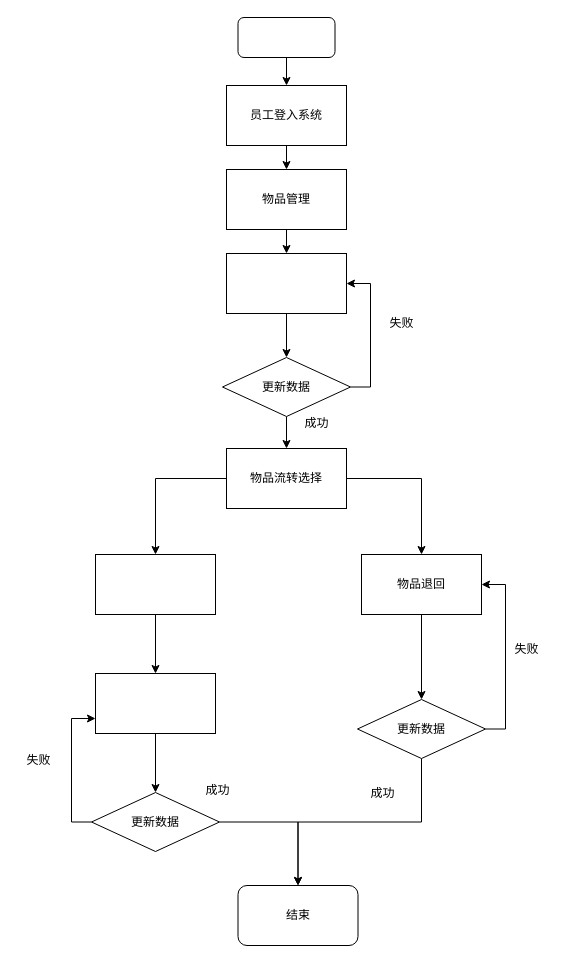
The diagram is 564 pixels wide and 963 high, and some of its shapes have lost their labels. Here are the shapes that lost their labels. From the top down, the box of each, then its label:
(237, 16, 335, 58): 开始
(226, 252, 346, 314): 添加物品
(94, 554, 216, 614): 物品出库
(94, 672, 216, 734): 选择对应的供应商
